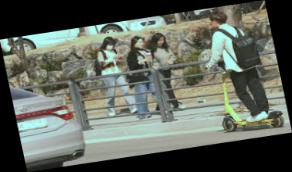nonhelmet: (197, 4, 287, 137)
